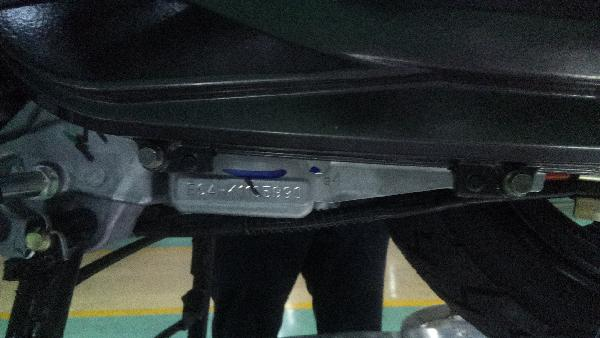box: (186, 182, 302, 202)
